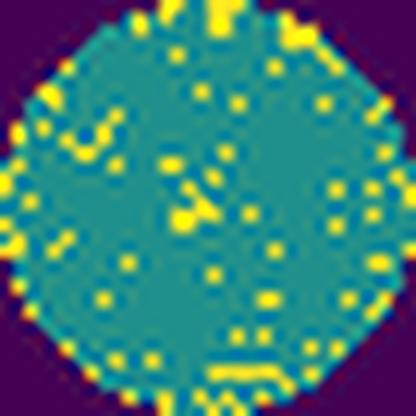Center: (166, 172, 228, 241)
